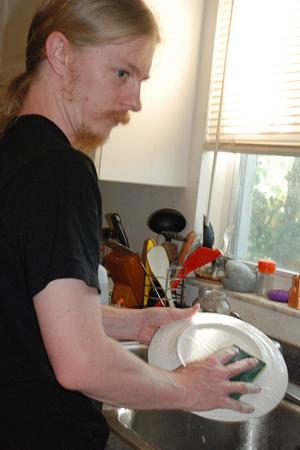person: (1, 1, 263, 447)
